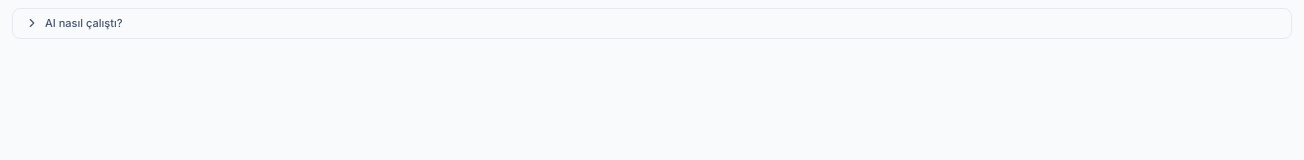
Test: AiExplainPanel › shows the honest empty state when no tools were used
The width and height of the screenshot is (1304, 160).
Click the button "AI nasıl çalıştı?" at (84, 23), box [13, 9, 1291, 38]
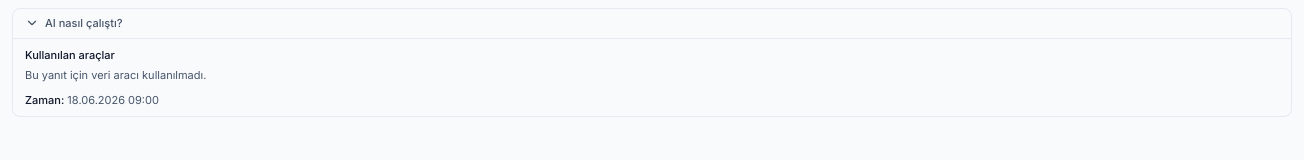
Result: the text "Bu yanıt için veri aracı kullanılmadı." is shown at [25, 68, 206, 82]
